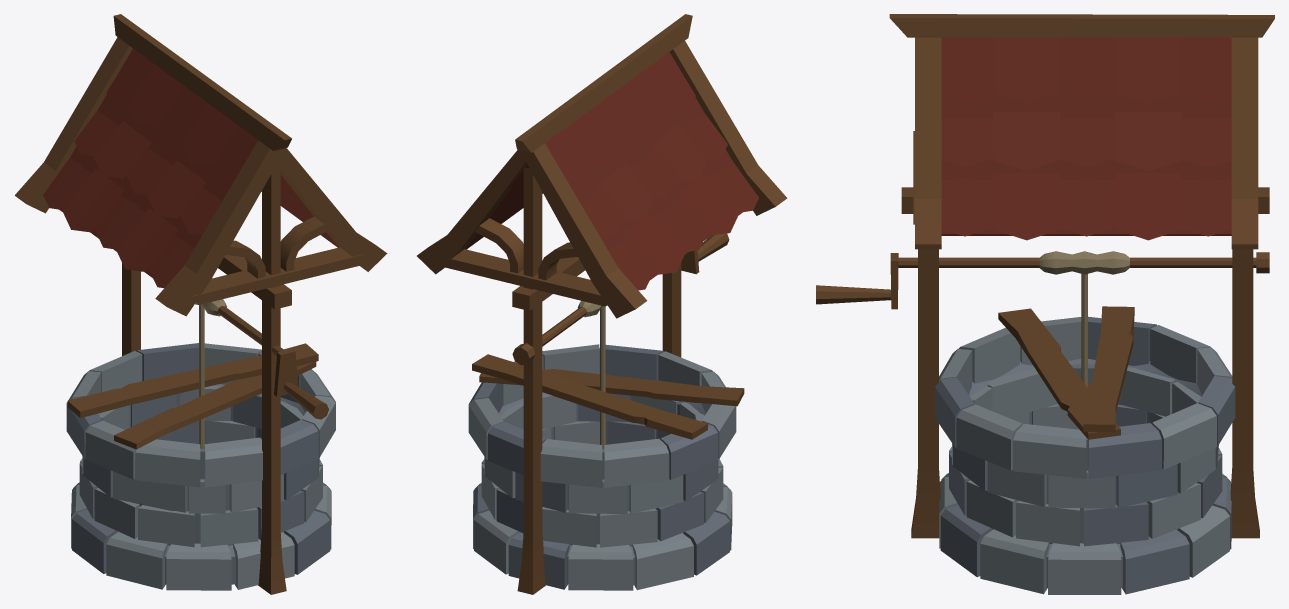
Rendered from well_free.glb.
3 renders of one model, left to right at view 1: azimuth 30°, elevation 25°; view 2: azimuth 150°, elevation 25°; view 3: azimuth 270°, elevation 25°, orthographic. The views are drawn at different scales.
Visible parts, largest first — view 1: Well; view 2: Well; view 3: Well.
Boxes of the visible parts, bbox=[...] form: Well: bbox=[15, 14, 387, 594]; Well: bbox=[417, 14, 787, 594]; Well: bbox=[816, 14, 1274, 594].
Bounding box in the file's own units: 0.6664 × 1.25 × 1.
